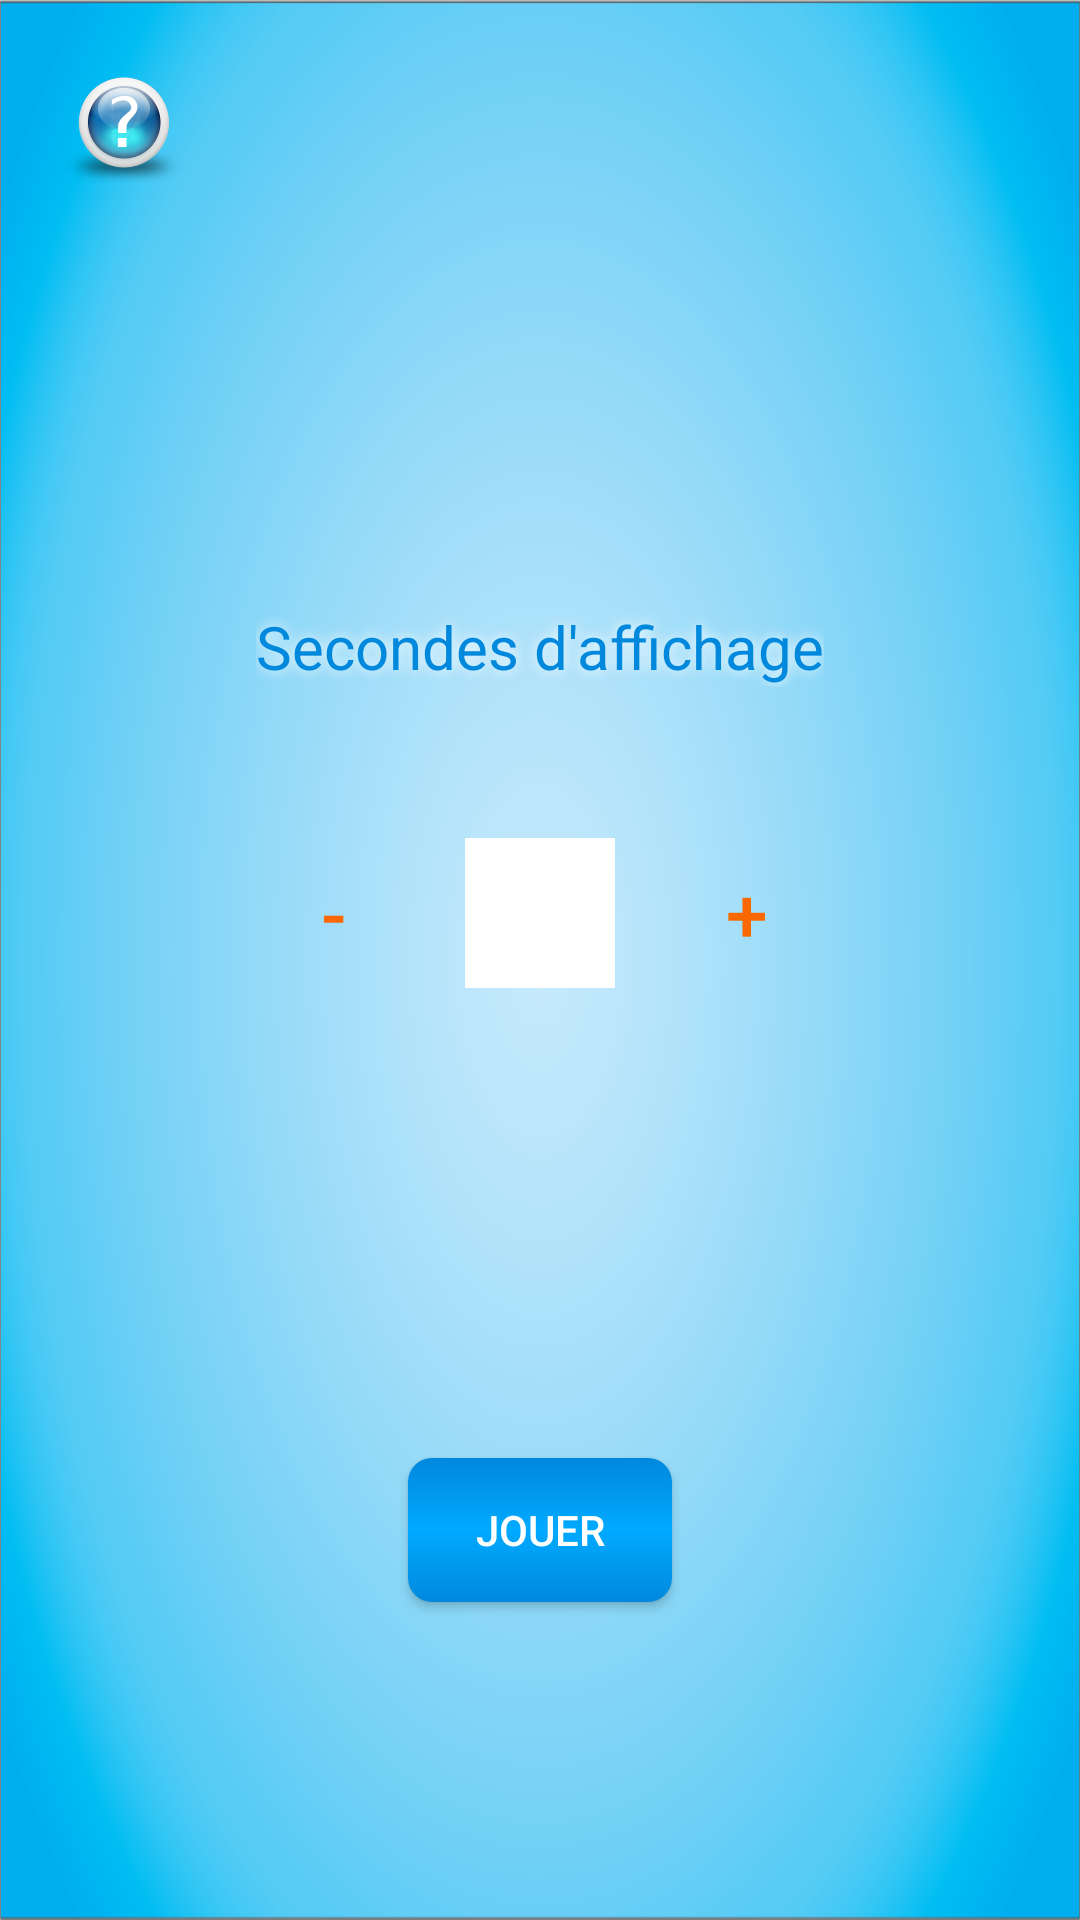

Icons on this 1080×1920 Android screen, each with the point to tap as (x,y):
help: (124,124)
